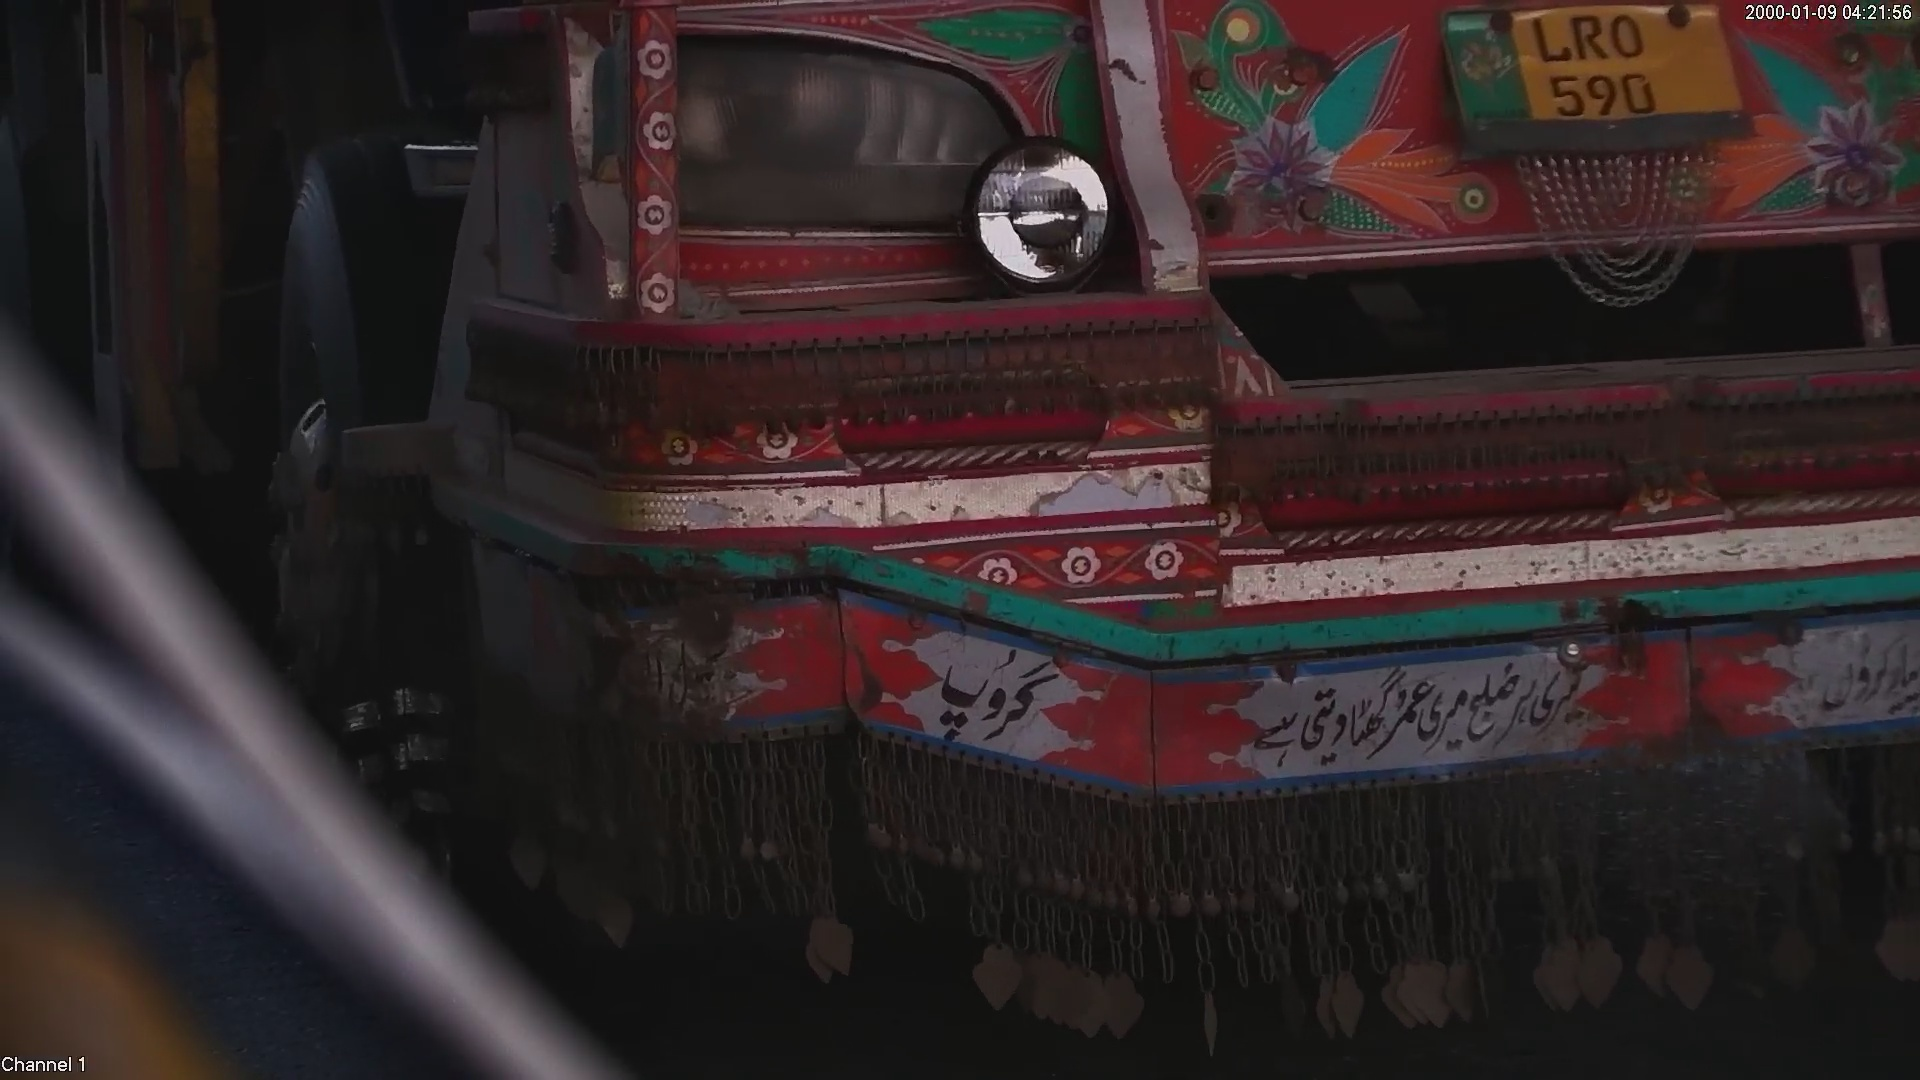Number_Plate: (1437, 9, 1771, 151)
Undefined: (615, 25, 1106, 288), (1217, 651, 1606, 773), (1506, 166, 1717, 303), (871, 623, 1091, 746)
